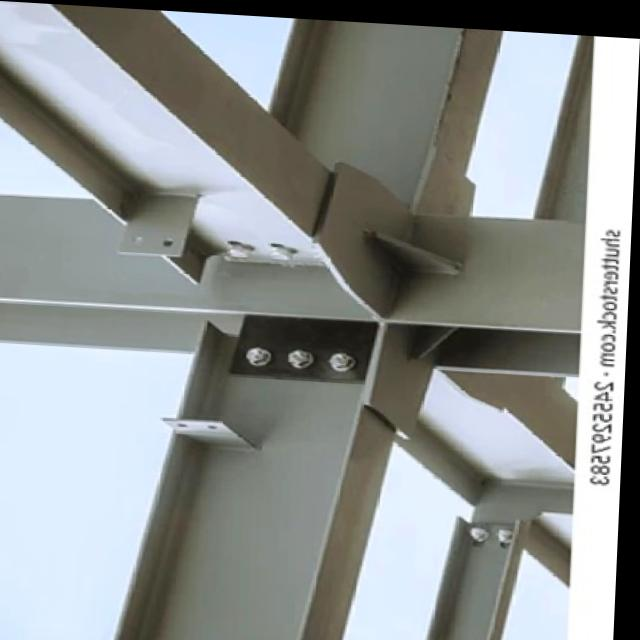Regular bolt: (246, 343, 283, 373), (289, 342, 322, 372), (329, 344, 360, 370)
